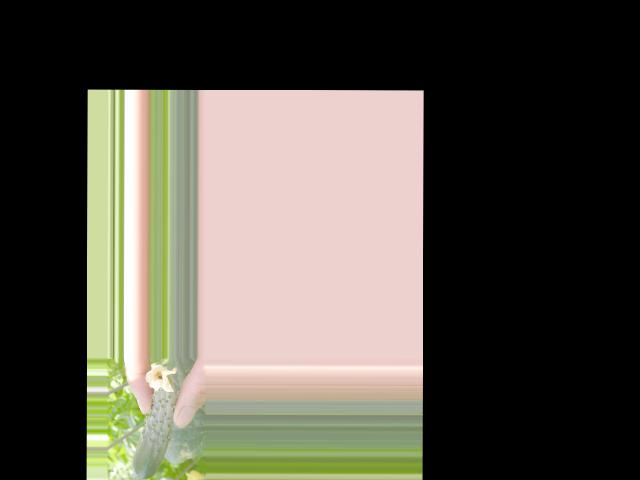cucumber: (132, 364, 177, 480)
